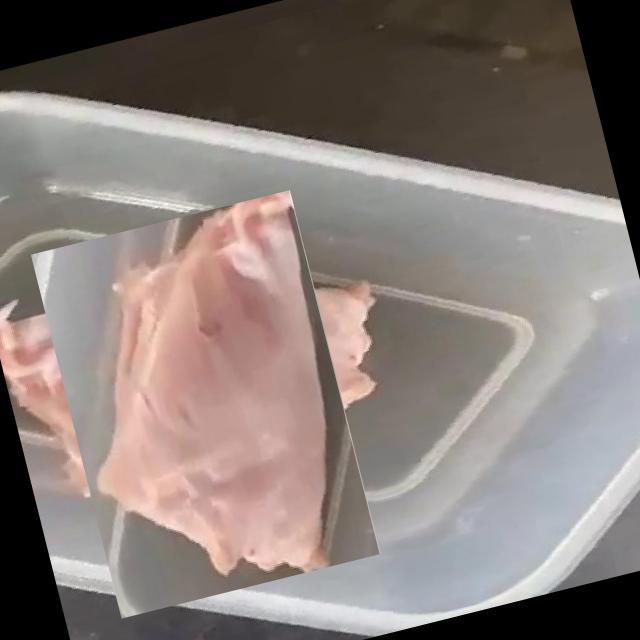chicken: (10, 209, 400, 599)
